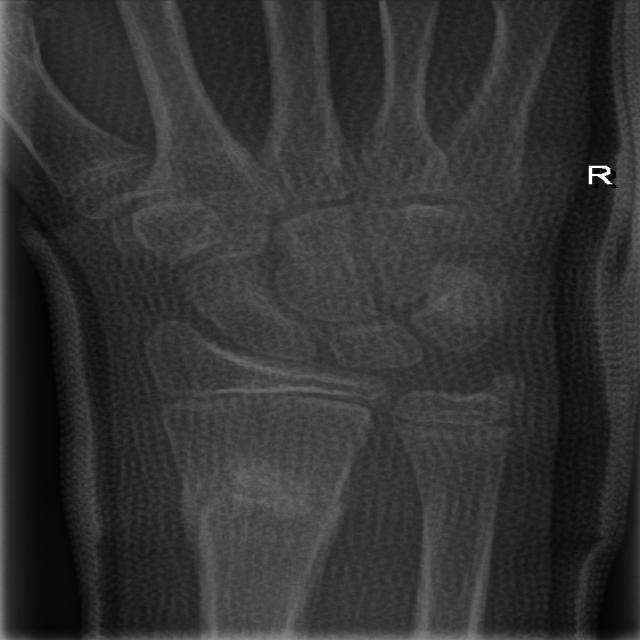radius fracture: (160, 441, 364, 579)
